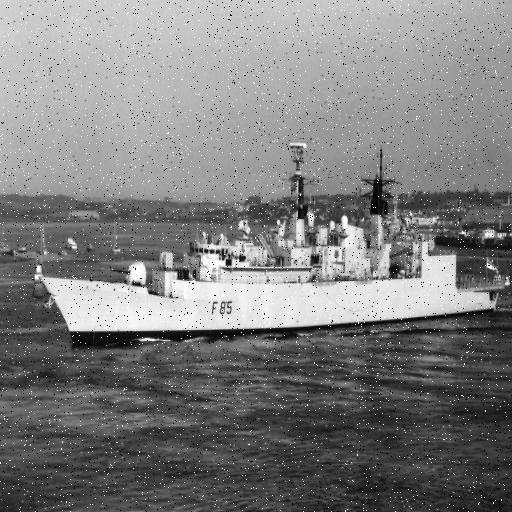Fragata: (39, 140, 504, 355)
